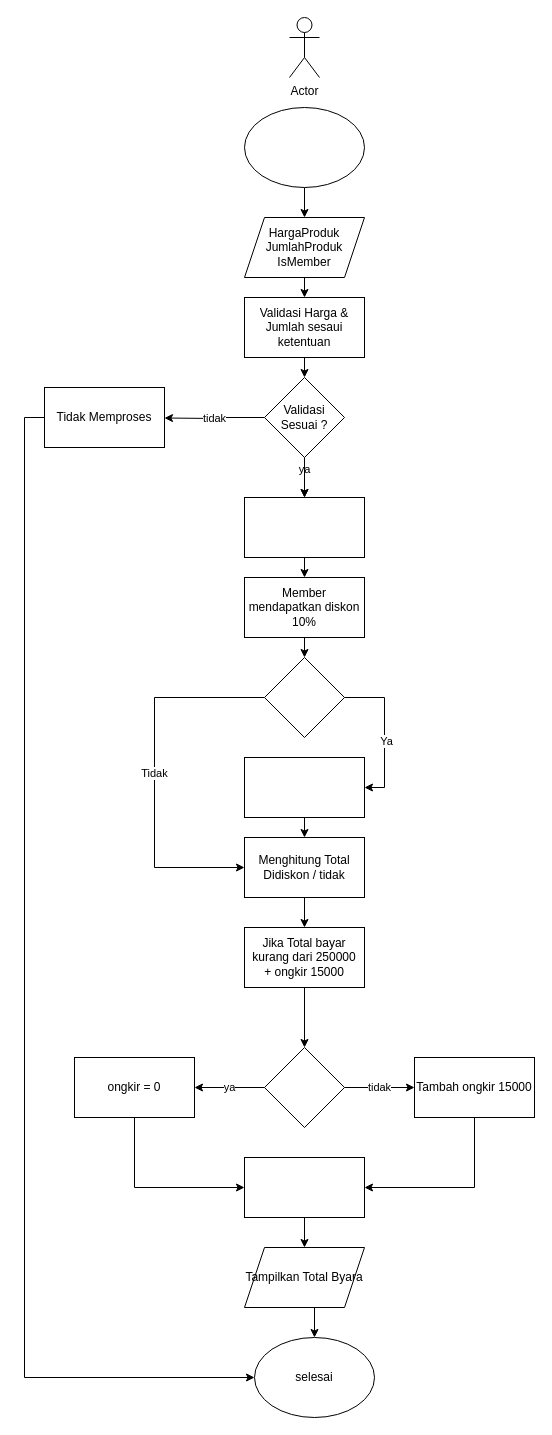
Some shapes in this 552 by 1435 pixel diagram are drawn without their labels. Here are the shapes that lost their labels. From the top down, the centre of each, then its label:
point (304, 147): Mulai
point (304, 527): Hitung Subtotal harga produk x jumlah produk
point (304, 697): Member ?
point (304, 787): Subtotal - Member
point (304, 1087): Gratis ongkir ?
point (304, 1187): Total Pembayaran = Didiskon + ongkir
